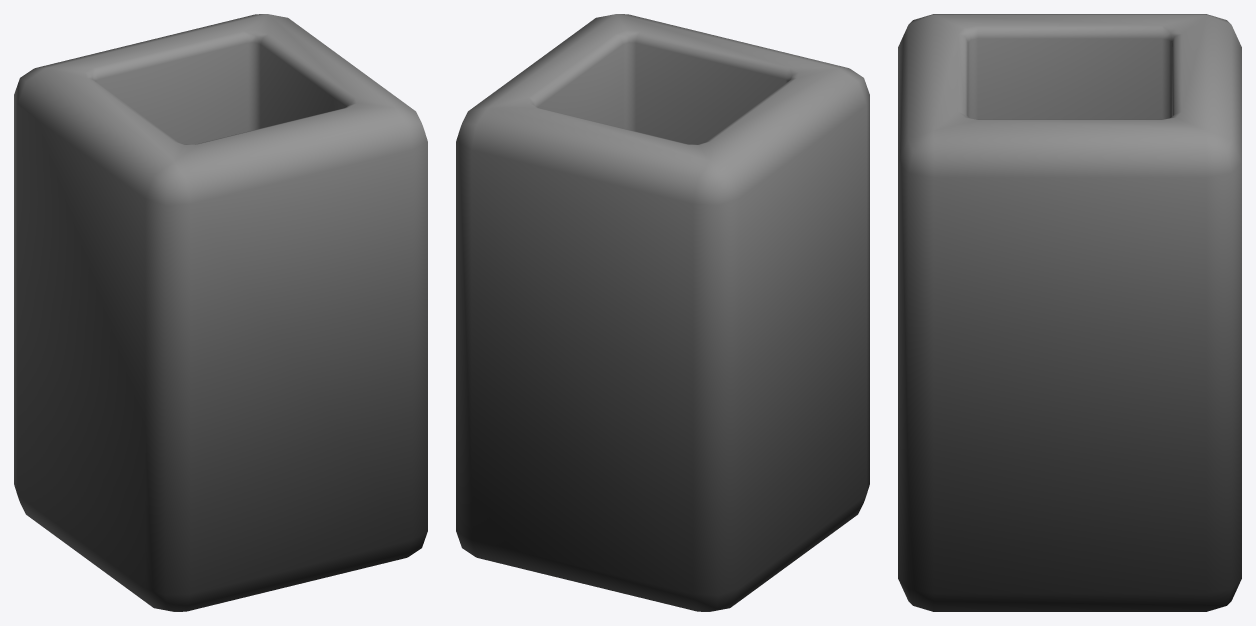
The model's file is SM_bin.fbx.
3 renders of one model, left to right at view 1: azimuth 30°, elevation 25°; view 2: azimuth 150°, elevation 25°; view 3: azimuth 270°, elevation 25°, orthographic. The views are drawn at different scales.
Visible parts, largest first — view 1: Cube.001; view 2: Cube.001; view 3: Cube.001.
Boxes of the visible parts, bbox=[...] form: Cube.001: bbox=[14, 14, 427, 611]; Cube.001: bbox=[456, 14, 869, 611]; Cube.001: bbox=[898, 14, 1241, 611].
Size of the model in its own units: 42.44 by 65.4 by 42.44.
